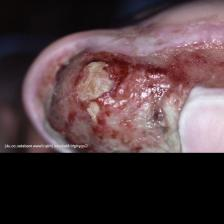Wound: (18, 30, 224, 152)
